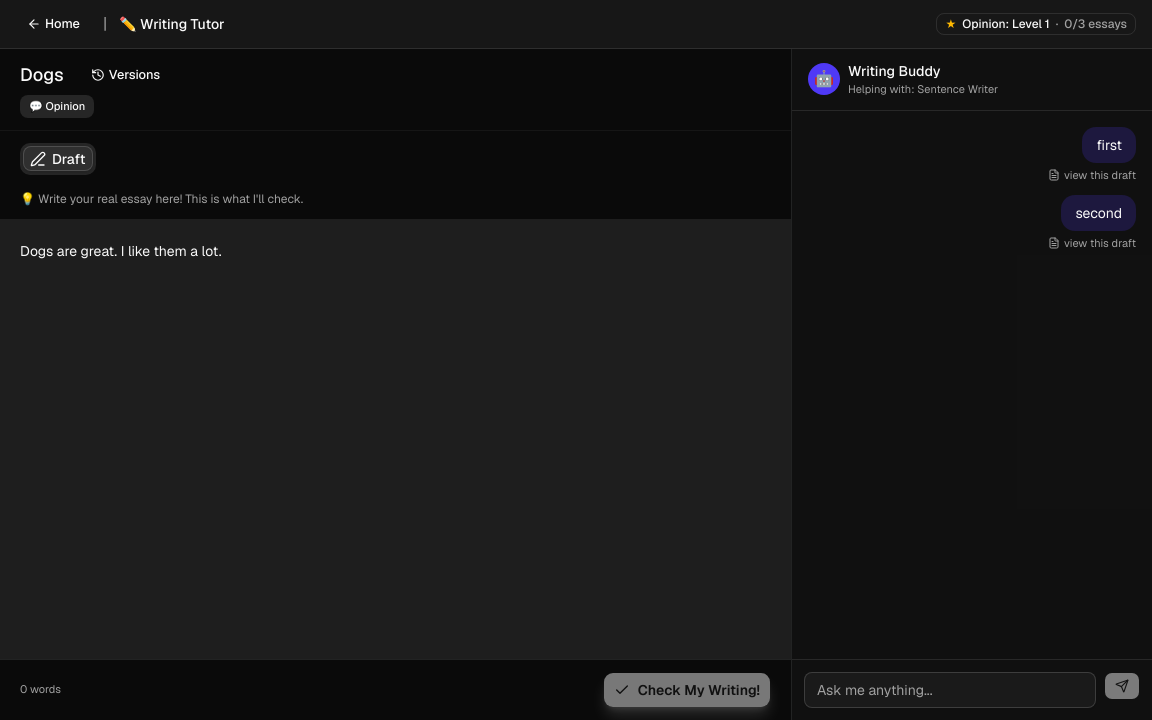
Scenario: WritingScreen — history mode › Versions button in the header opens the latest snapshot
Click the button "Versions" at {"x": 126, "y": 75}, box x1=80 y1=61 x2=171 y2=89
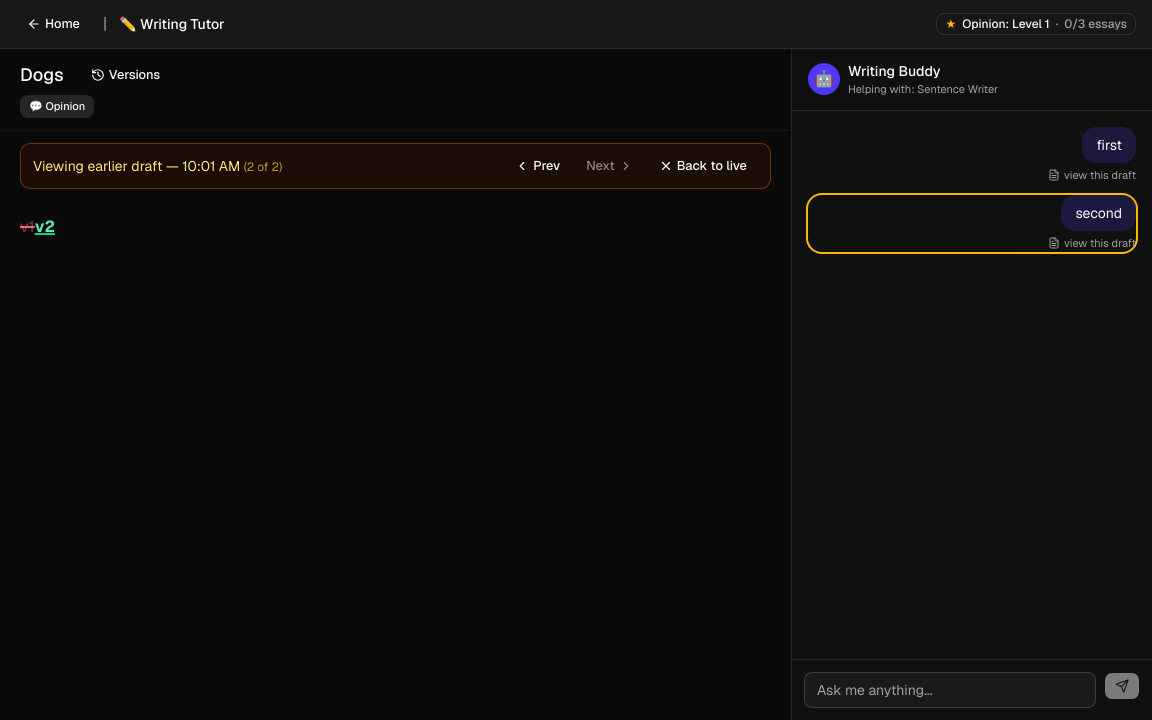
Expected: the element showing "second view this draft" is shown, x1=808 y1=195 x2=1136 y2=252
Expected: the text "Viewing earlier draft — 10:01 AM (2 of 2)" is shown, x1=33 y1=156 x2=282 y2=176
